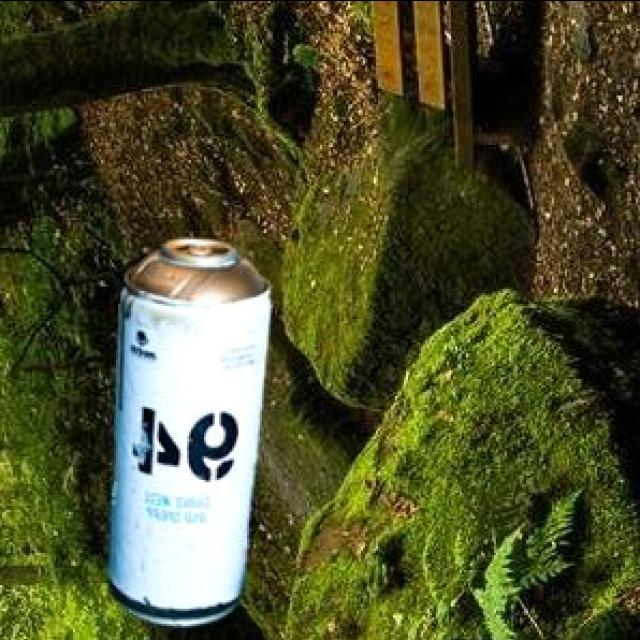logam: (104, 237, 267, 624)
